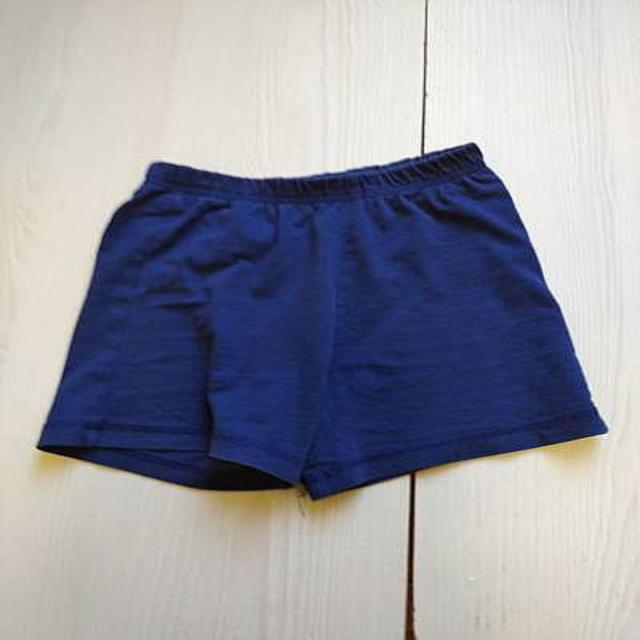SHORT: (22, 134, 614, 503)
